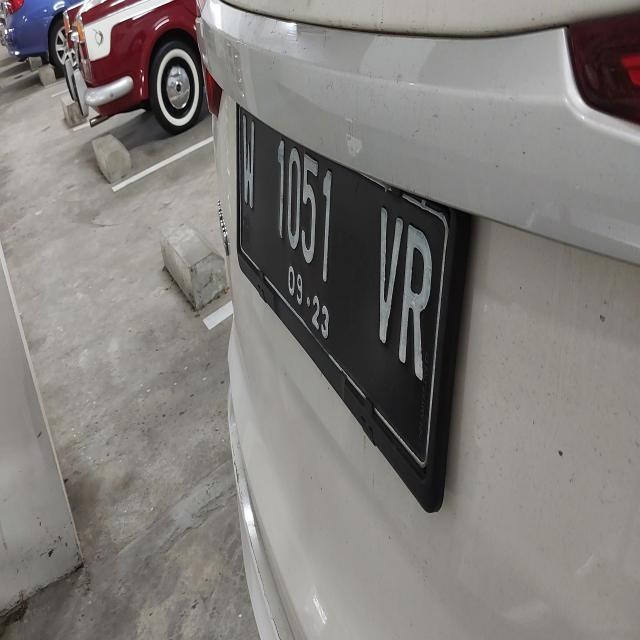0: (284, 136, 306, 266)
1: (317, 151, 342, 292), (270, 128, 292, 240)
5: (296, 145, 322, 278)
R: (394, 203, 446, 387)
V: (371, 194, 403, 366)
W: (229, 98, 268, 229)
